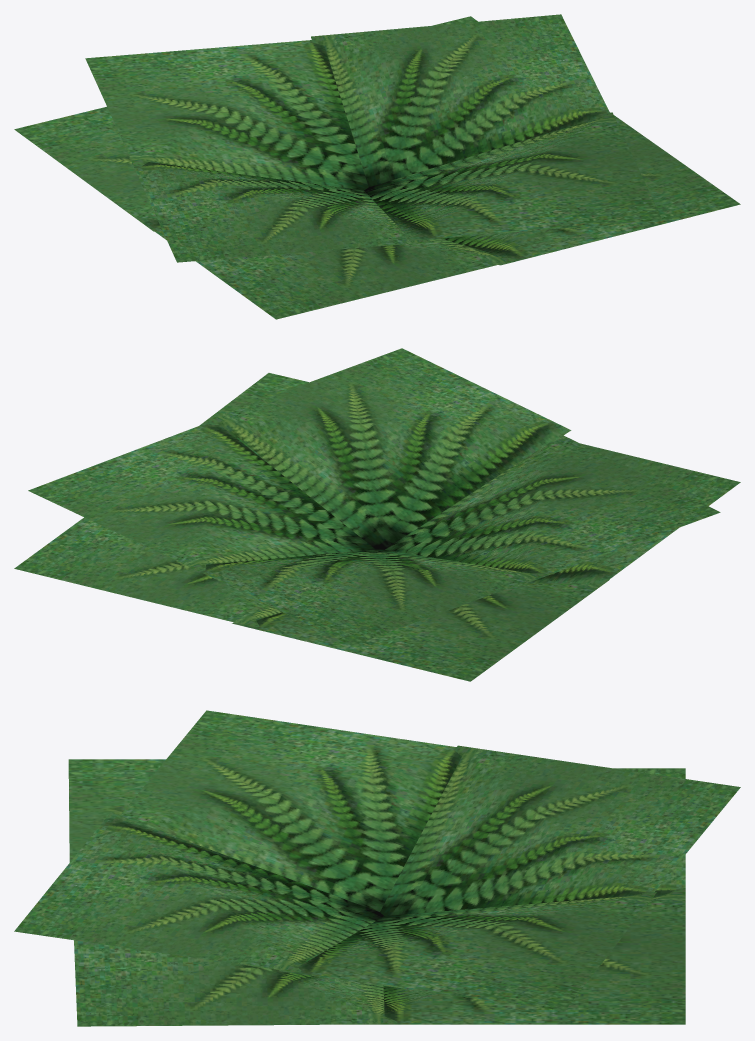
The model's file is frst_fern_green_lg_l2.fbx.
3 renders of one model, top to bottom at view 1: azimuth 30°, elevation 25°; view 2: azimuth 150°, elevation 25°; view 3: azimuth 270°, elevation 25°, orthographic. The views are drawn at different scales.
Visible parts, largest first — view 1: mesh_node; view 2: mesh_node; view 3: mesh_node.
Boxes of the visible parts, x1,y1,x2,y2 form: mesh_node: (14,14,740,319); mesh_node: (14,348,740,681); mesh_node: (14,710,740,1026).
Bounding box in the file's own units: 3.93 × 0.6508 × 3.96.
Materials: 1 (1 with a texture image).
